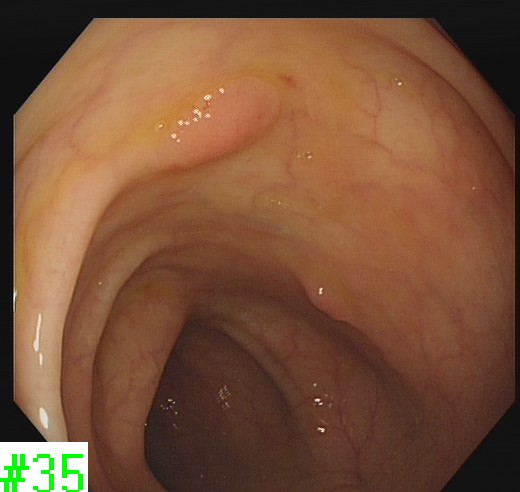adenoma: (156, 75, 286, 169), (294, 272, 364, 330)
